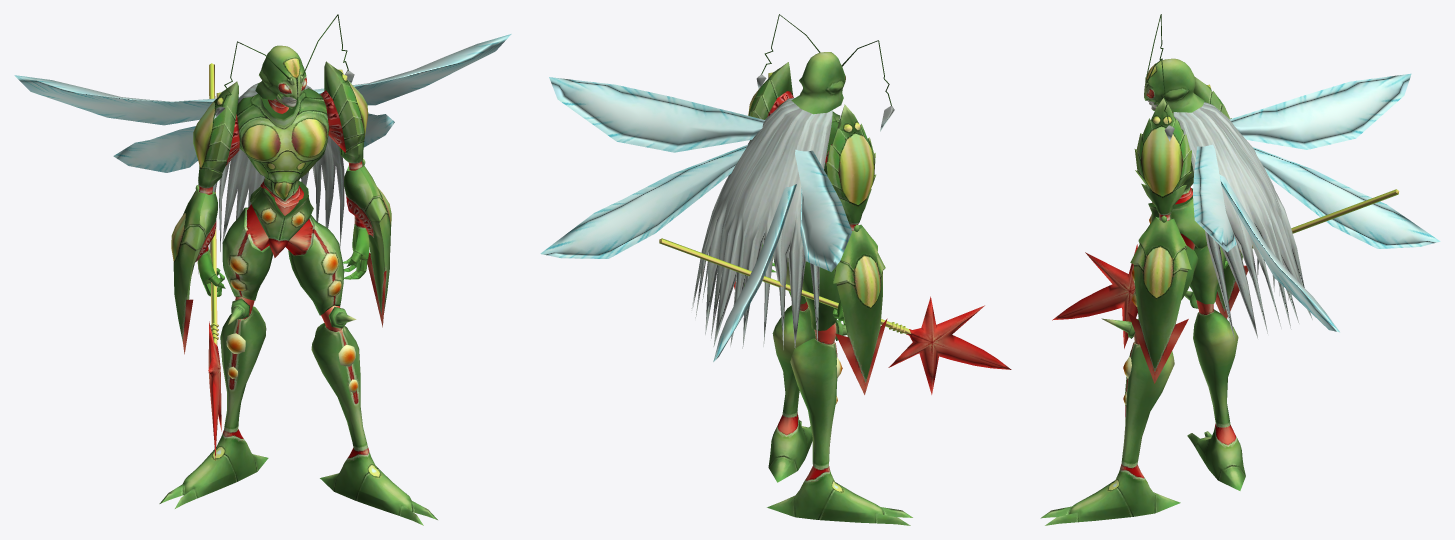
3 renders of one model, left to right at view 1: azimuth 30°, elevation 25°; view 2: azimuth 150°, elevation 25°; view 3: azimuth 270°, elevation 25°, orthographic. The views are drawn at different scales.
Parts seen in each view (by area): view 1: jewelbeemon; view 2: jewelbeemon; view 3: jewelbeemon.
Part boxes in pixels (left/top/right/bottom): jewelbeemon: left=14, top=14, right=511, bottom=525; jewelbeemon: left=540, top=14, right=1011, bottom=525; jewelbeemon: left=1040, top=14, right=1440, bottom=525.
Size of the model in its own units: 191 by 216 by 174.
Materials: 1 (1 with a texture image).
